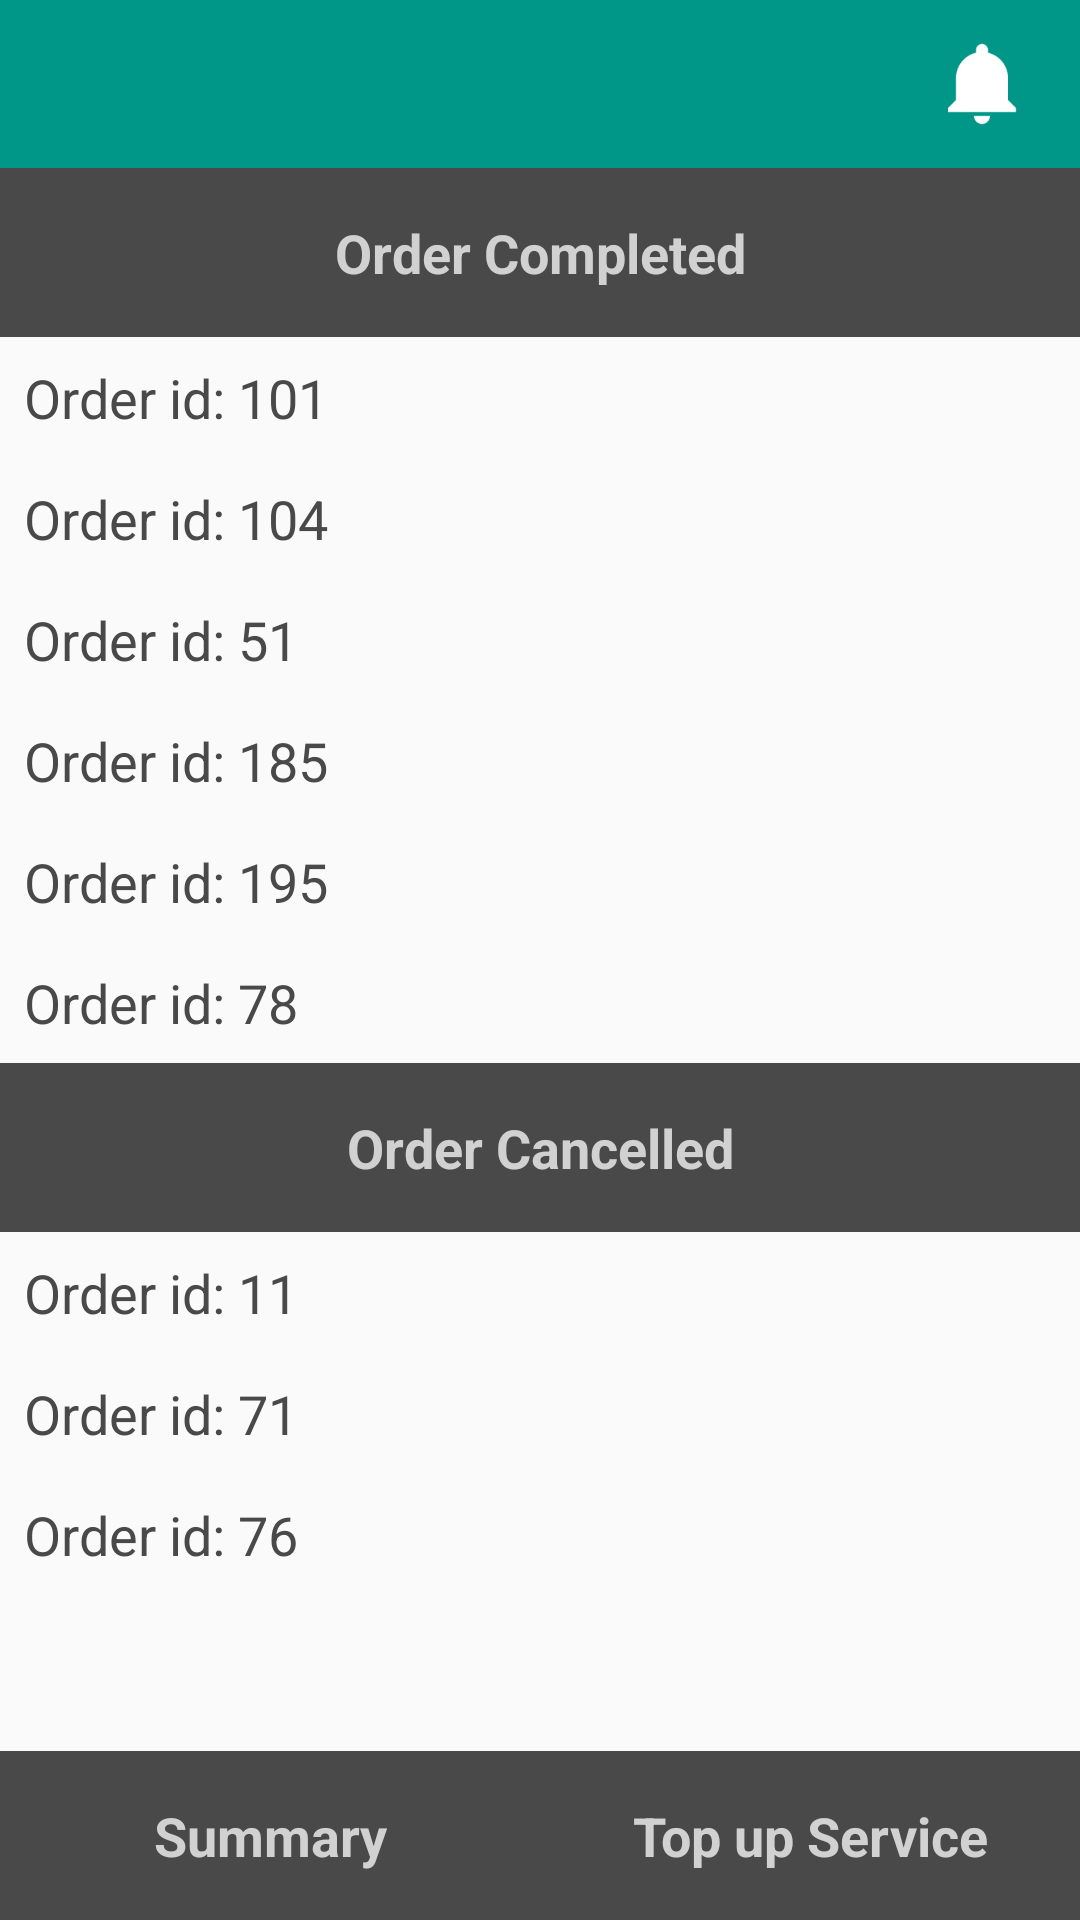

Named icons in this screenshot (1080 × 1920) and their centers, [x,y]:
notifications: [982,84]
